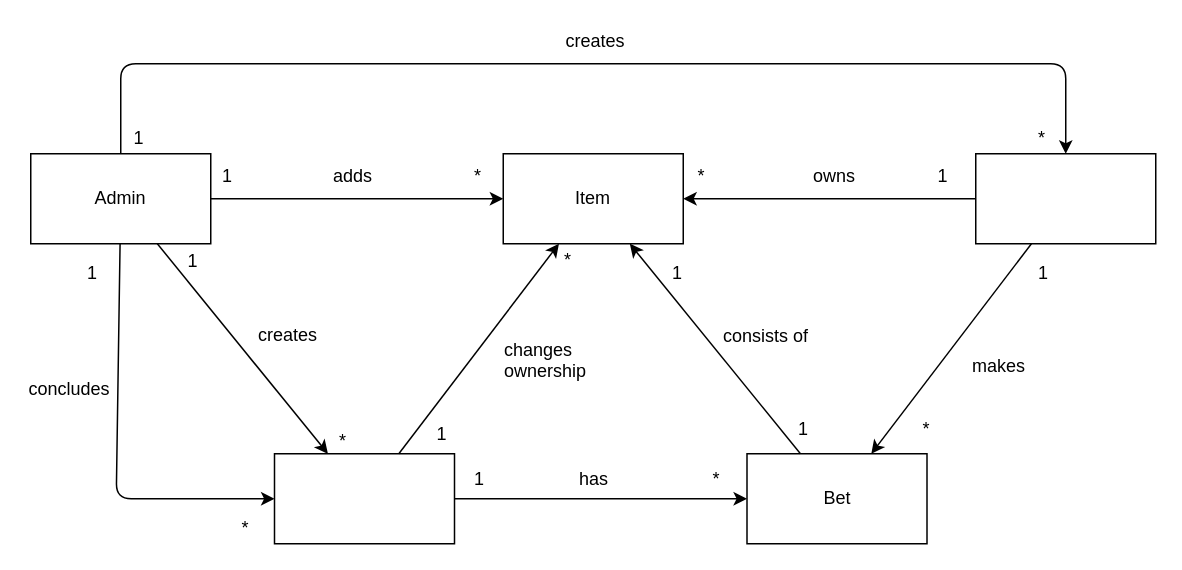
Image size: 1182x570. Some labels were removed from this diagram. The shapes that lost their labels are listed below. From the top down, each one's box as (x1, y1, x2, y2) in pixels, then its label:
(974, 152, 1156, 244): User
(273, 452, 454, 544): Event
